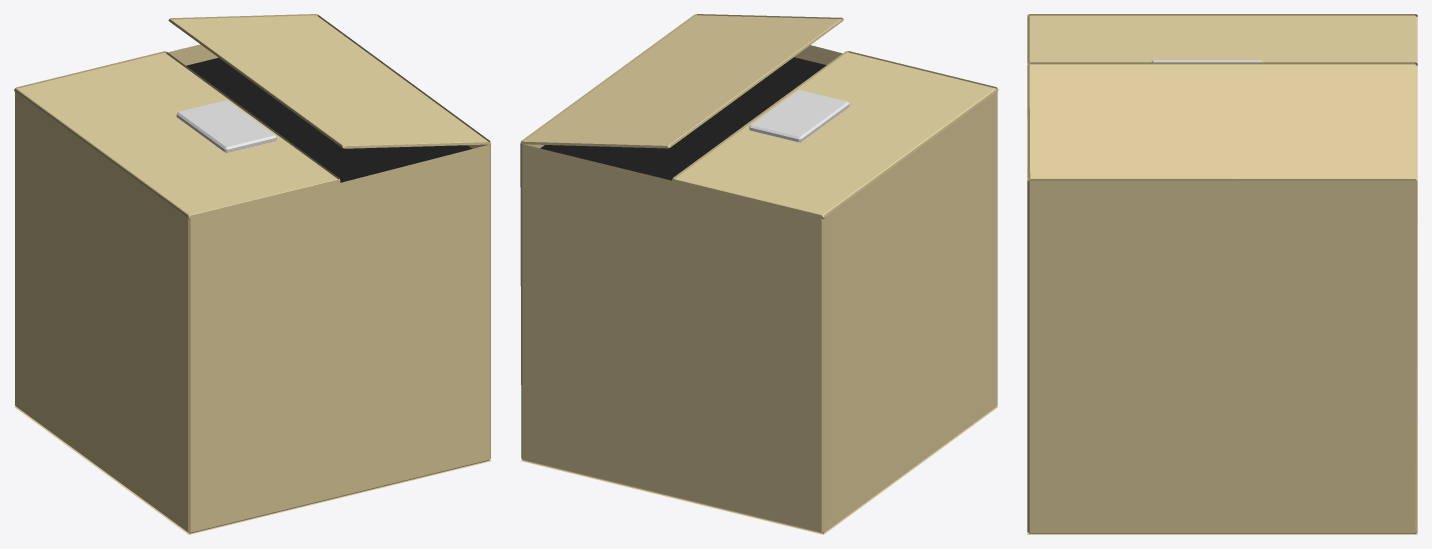
3 views of the same model, side by side, from view 1: azimuth 30°, elevation 25°; view 2: azimuth 150°, elevation 25°; view 3: azimuth 270°, elevation 25° (orthographic). The views are drawn at different scales.
Parts seen in each view (by area): view 1: Box, BoxInside, CheckList; view 2: Box, BoxInside, CheckList; view 3: Box.
Boxes of the visible parts, x1,y1,x2,y2 form: Box: (14,14,491,534); BoxInside: (186,57,471,182); CheckList: (176,100,276,152); Box: (520,14,998,534); BoxInside: (540,57,826,180); CheckList: (749,89,849,142); Box: (1027,14,1417,534).
Size of the model in its own units: 50.04 by 55.35 by 50.
